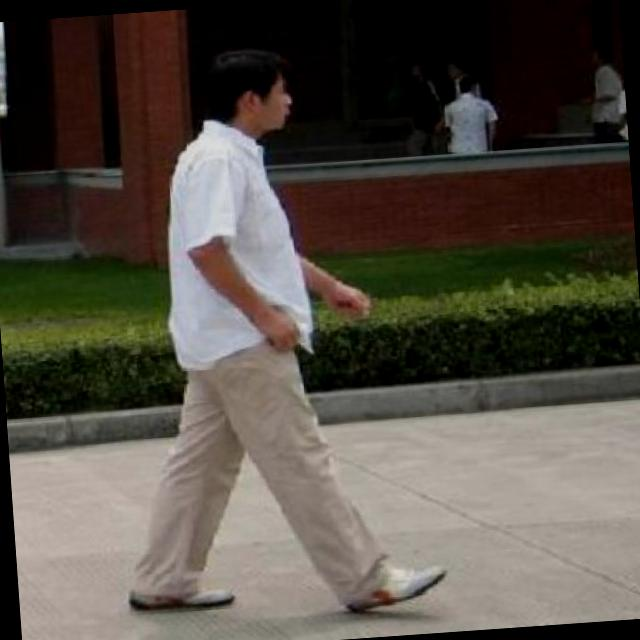Person: (84, 37, 442, 620), (429, 73, 507, 164), (578, 41, 626, 136), (610, 72, 628, 151)
